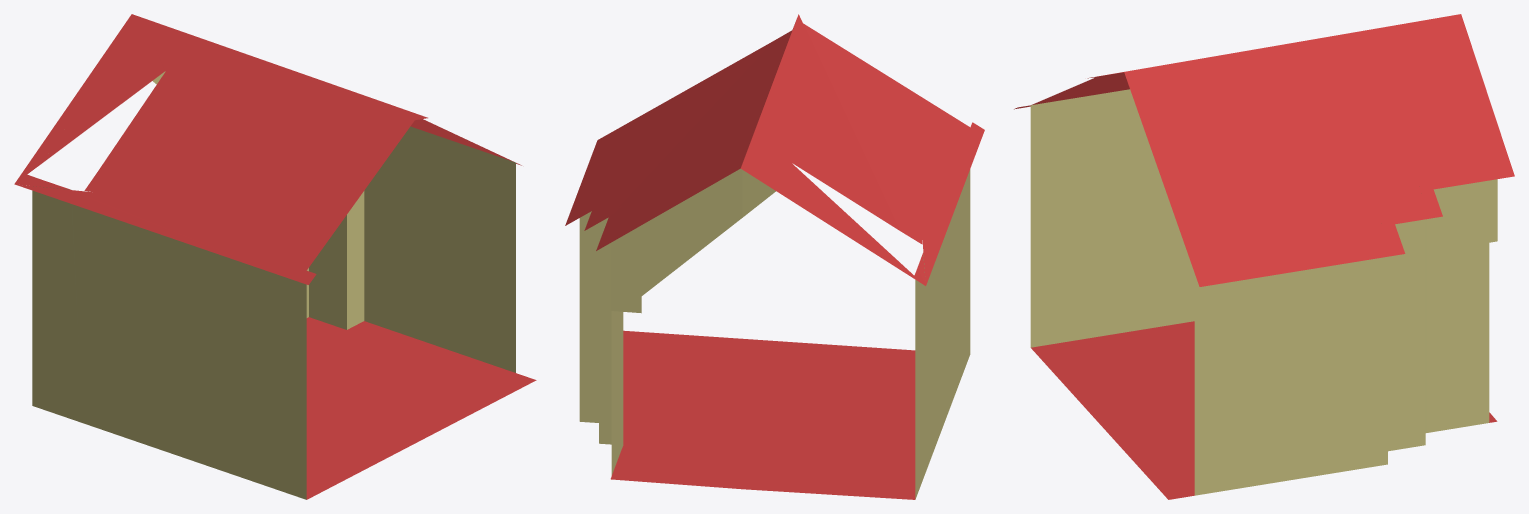
The picture shows the model from 3 angles, left to right: view 1: azimuth 30°, elevation 25°; view 2: azimuth 150°, elevation 25°; view 3: azimuth 270°, elevation 25°; orthographic projection. The views are drawn at different scales.
Size of the model in its own units: 18.92 by 18.48 by 14.16.
